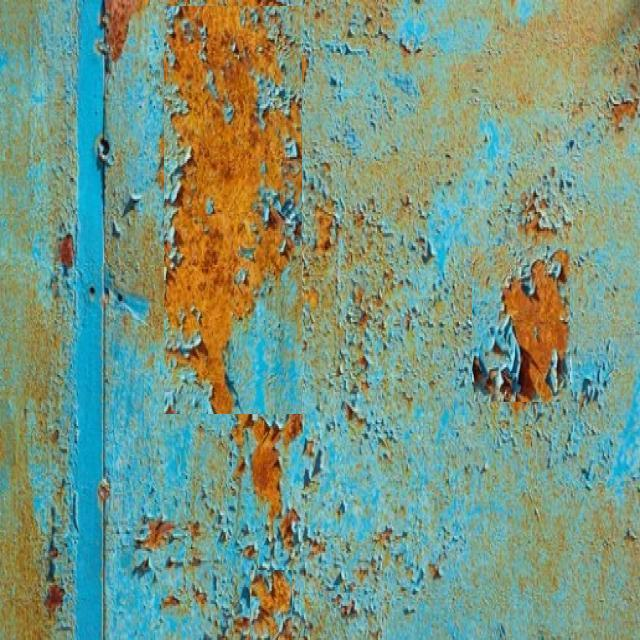Corrosion: (164, 4, 302, 414), (504, 251, 570, 402), (251, 419, 282, 534), (251, 572, 292, 638), (251, 572, 292, 616), (58, 233, 74, 270)
